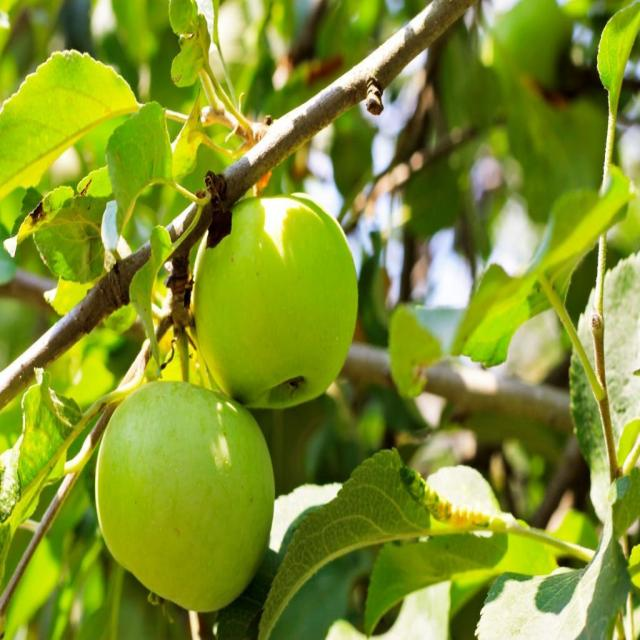Green Apple: (104, 382, 279, 609), (192, 203, 358, 412)
